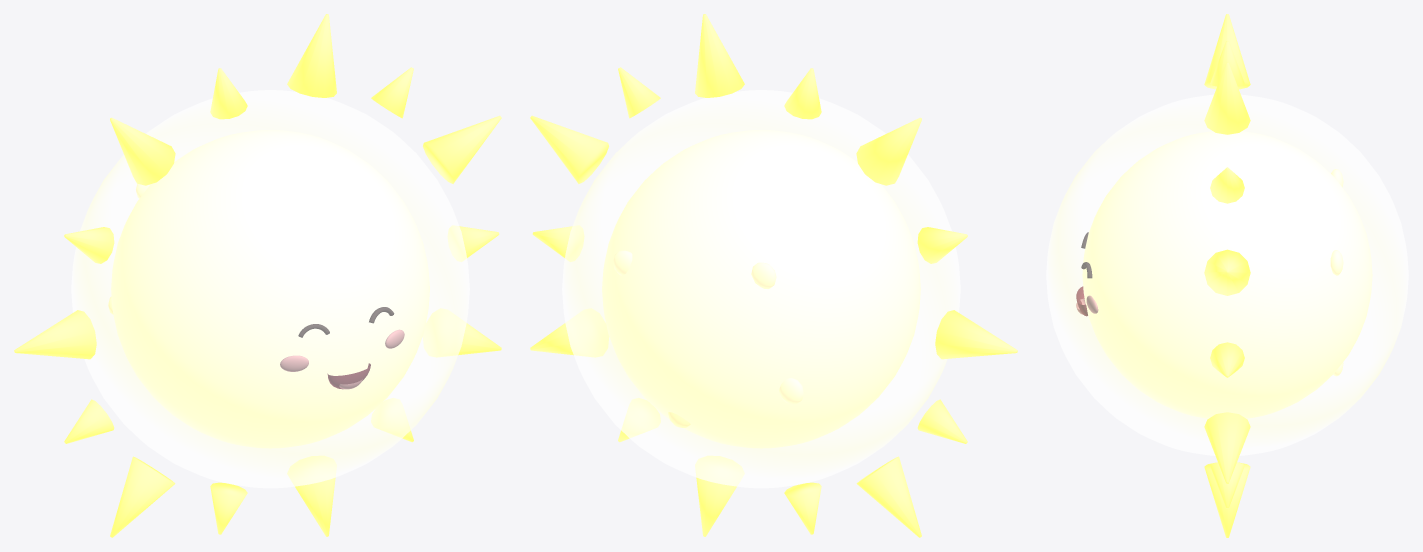
File: S02_Sun_Cell.glb
3 views of the same model, side by side, from view 1: azimuth 30°, elevation 25°; view 2: azimuth 150°, elevation 25°; view 3: azimuth 270°, elevation 25° (orthographic). The views are drawn at different scales.
Visible parts, largest first — view 1: S02_Sun_Cell_Mesh; view 2: S02_Sun_Cell_Mesh; view 3: S02_Sun_Cell_Mesh.
Part boxes in pixels (bbox=[...]): S02_Sun_Cell_Mesh: bbox=[14, 14, 501, 537]; S02_Sun_Cell_Mesh: bbox=[530, 14, 1017, 537]; S02_Sun_Cell_Mesh: bbox=[1046, 14, 1408, 537].
Size of the model in its own units: 7.04 by 7.22 by 5.
